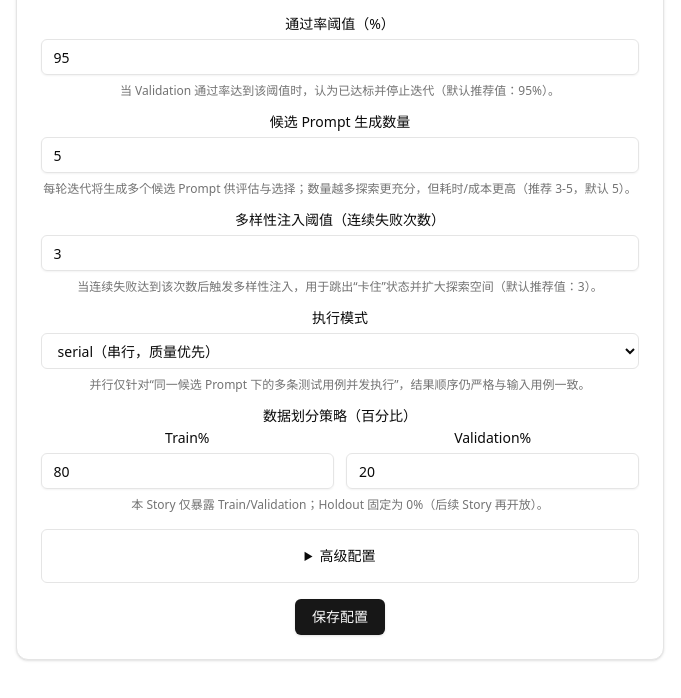
Test case: OptimizationTaskConfigView › 并行模式保存成功时应携带 execution_mode/max_concurrency 并回显
(page scrolled)
Select "parallel（并行，用例并发）" in the dropdown labelled "执行模式" at (340, 351), box [41, 333, 639, 369]
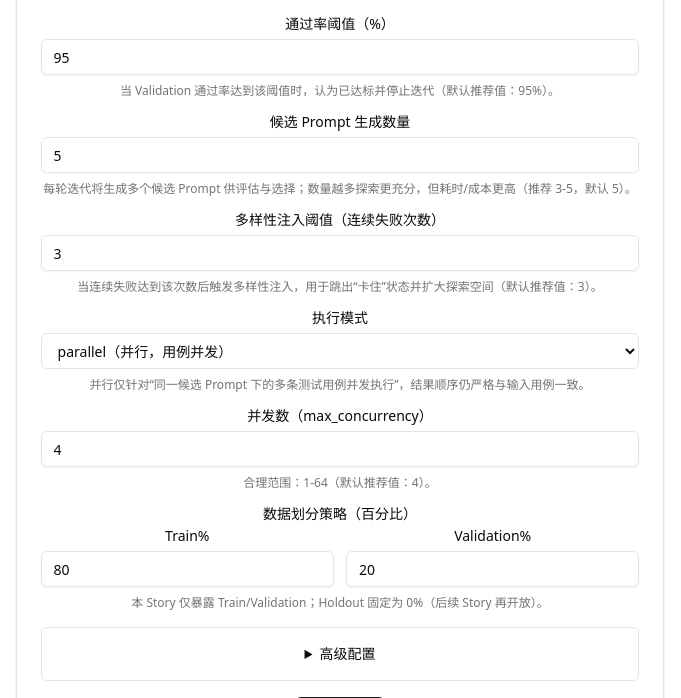
Replace the text in the number field labelled "并发数（max_concurrency）" with "8" at (340, 449), box [41, 431, 639, 467]
(page scrolled)
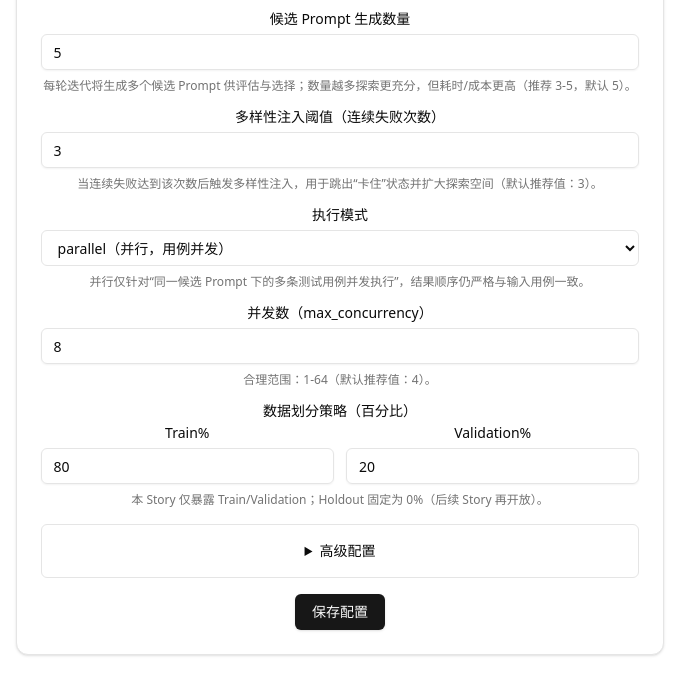
Click the button "保存配置" at (340, 612), box [295, 594, 385, 630]
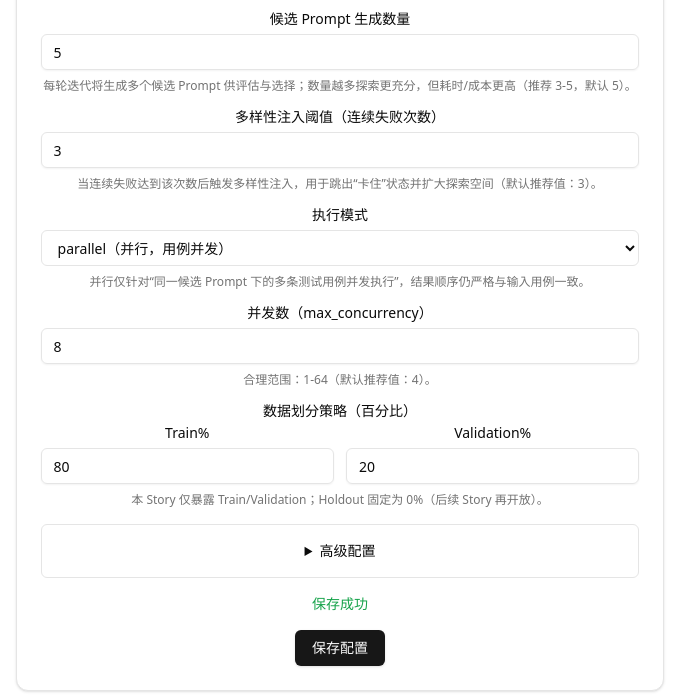
Check: the text "保存成功" is shown, box [312, 594, 368, 613]
